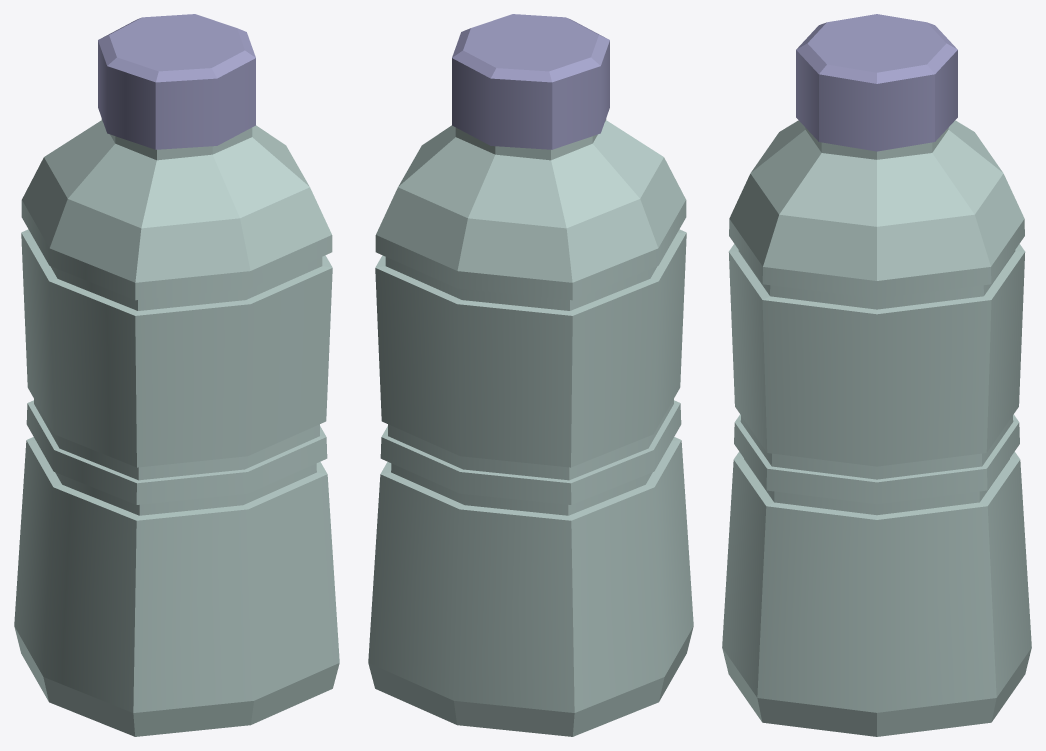
The model's file is WaterBottle.glb.
The picture shows the model from 3 angles, left to right: view 1: azimuth 30°, elevation 25°; view 2: azimuth 150°, elevation 25°; view 3: azimuth 270°, elevation 25°; orthographic projection.
Visible parts, largest first — view 1: cap, bottle; view 2: cap, bottle; view 3: cap, bottle.
Part boxes in pixels (x1,y1,x2,y2): cap: (14,118,339,736); bottle: (98,14,255,149); cap: (368,118,693,736); bottle: (452,14,609,149); cap: (722,120,1031,736); bottle: (796,14,957,151).
Bounding box in the file's own units: 7.5 × 16.86 × 7.5.
